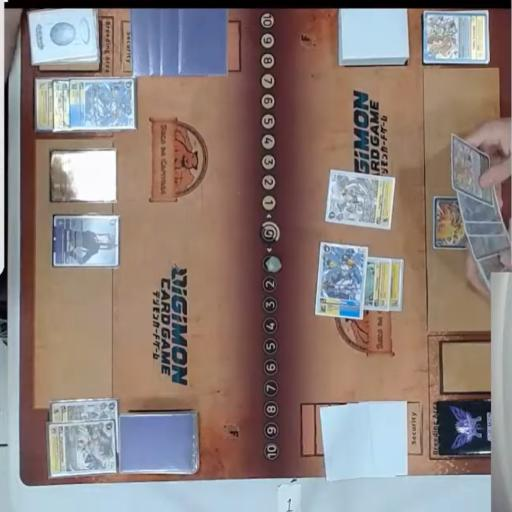card: (322, 165, 396, 233), (46, 419, 118, 483), (312, 244, 367, 321), (68, 78, 137, 132), (50, 147, 116, 203), (50, 218, 119, 270), (424, 11, 488, 65), (451, 133, 493, 206), (50, 396, 123, 430), (434, 194, 465, 252), (362, 258, 393, 314), (457, 190, 505, 223), (475, 241, 512, 281), (51, 78, 75, 138), (34, 77, 58, 135), (468, 237, 512, 263), (388, 255, 406, 315), (460, 222, 510, 237)
